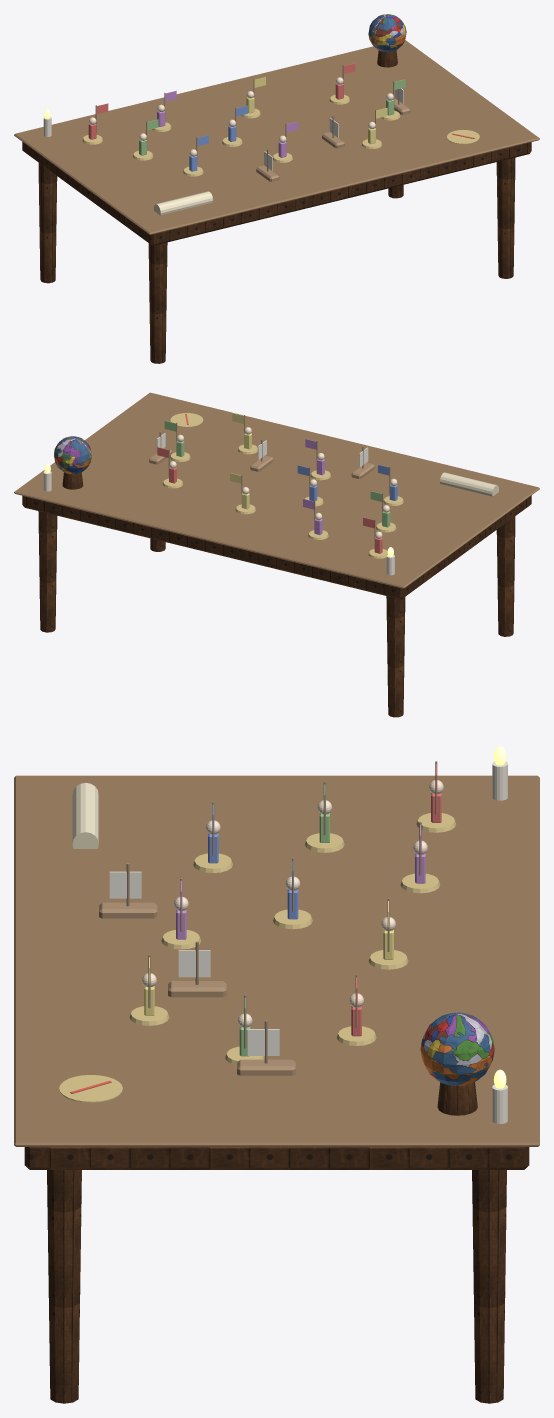
The model's file is ch5_game_10.glb.
3 views of the same model, one above another, from view 1: azimuth 30°, elevation 25°; view 2: azimuth 150°, elevation 25°; view 3: azimuth 270°, elevation 25° (orthographic). The views are drawn at different scales.
Visible parts, largest first — view 1: table_rim, table_top, leg.001, leg.003, leg, globe, scroll; view 2: table_rim, table_top, leg, leg.002, leg.001, globe, scroll; view 3: table_rim, table_top, leg.002, leg.003, globe, scroll, compass, globe_stand, hull, hull.002, hull.001, sail (+2 smaller).
Part boxes in pixels (left/top/right/bottom): table_rim: left=14, top=40, right=539, bottom=234; table_top: left=22, top=142, right=531, bottom=245; leg.001: left=148, top=242, right=167, bottom=363; leg.003: left=496, top=157, right=515, bottom=278; leg: left=38, top=163, right=57, bottom=283; globe: left=368, top=14, right=406, bottom=52; scroll: left=154, top=191, right=212, bottom=215; table_rim: left=14, top=392, right=539, bottom=588; table_top: left=22, top=495, right=531, bottom=599; leg: left=386, top=596, right=405, bottom=717; leg.002: left=38, top=511, right=57, bottom=632; leg.001: left=496, top=516, right=515, bottom=636; globe: left=54, top=436, right=91, bottom=474; scroll: left=440, top=472, right=498, bottom=496; table_rim: left=14, top=775, right=539, bottom=1146; table_top: left=24, top=1147, right=529, bottom=1169; leg.002: left=472, top=1170, right=506, bottom=1403; leg.003: left=47, top=1170, right=81, bottom=1403; globe: left=420, top=1012, right=494, bottom=1085; scroll: left=72, top=782, right=98, bottom=848; compass: left=59, top=1075, right=122, bottom=1102; globe_stand: left=437, top=1082, right=477, bottom=1115; hull: left=99, top=902, right=157, bottom=918; hull.002: left=237, top=1059, right=295, bottom=1075; hull.001: left=168, top=981, right=226, bottom=997; sail: left=109, top=871, right=141, bottom=898.
Bounding box in the file's own units: 16.4 × 7.6 × 9.9.
Materials: 24 (3 with a texture image).
